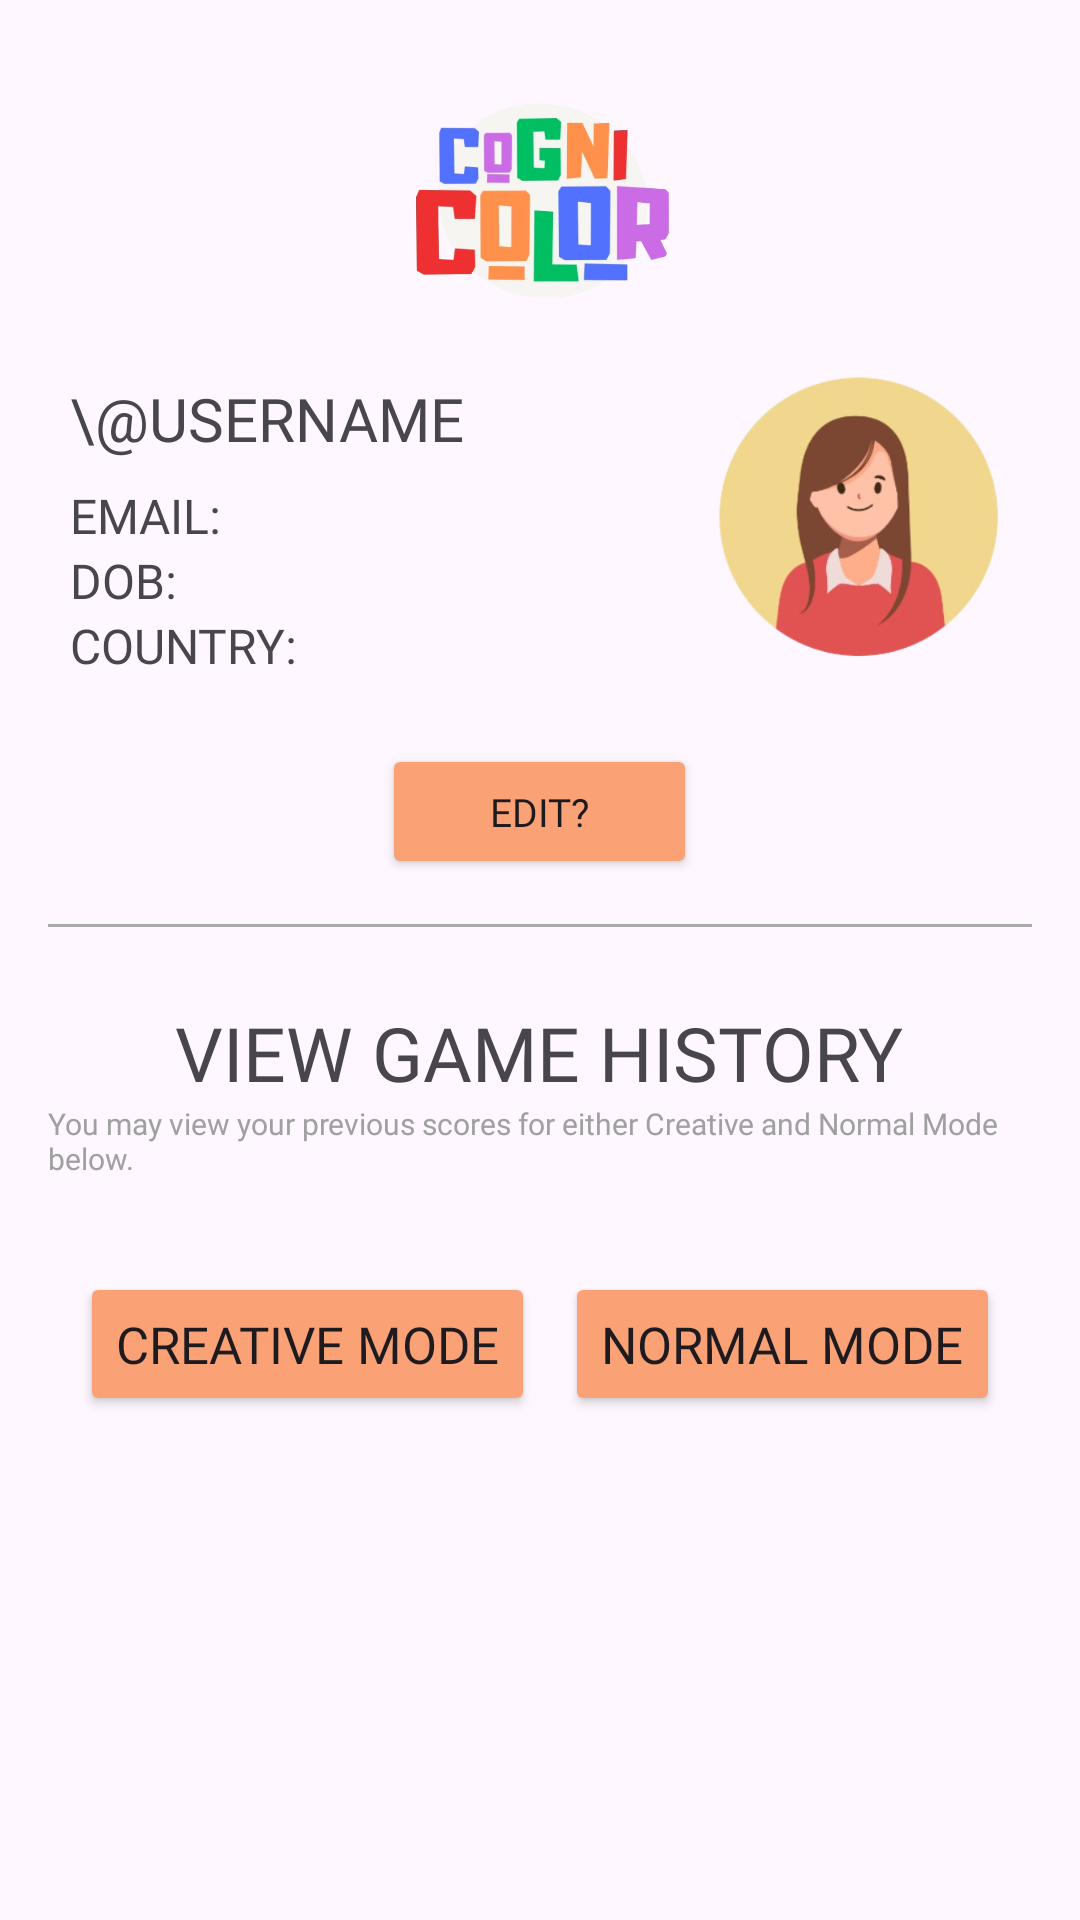

Named icons in this screenshot (1080 x 1920) and their bounding boxes, (x1, y1, x2, y2):
profilepic: (719, 377, 998, 656)
